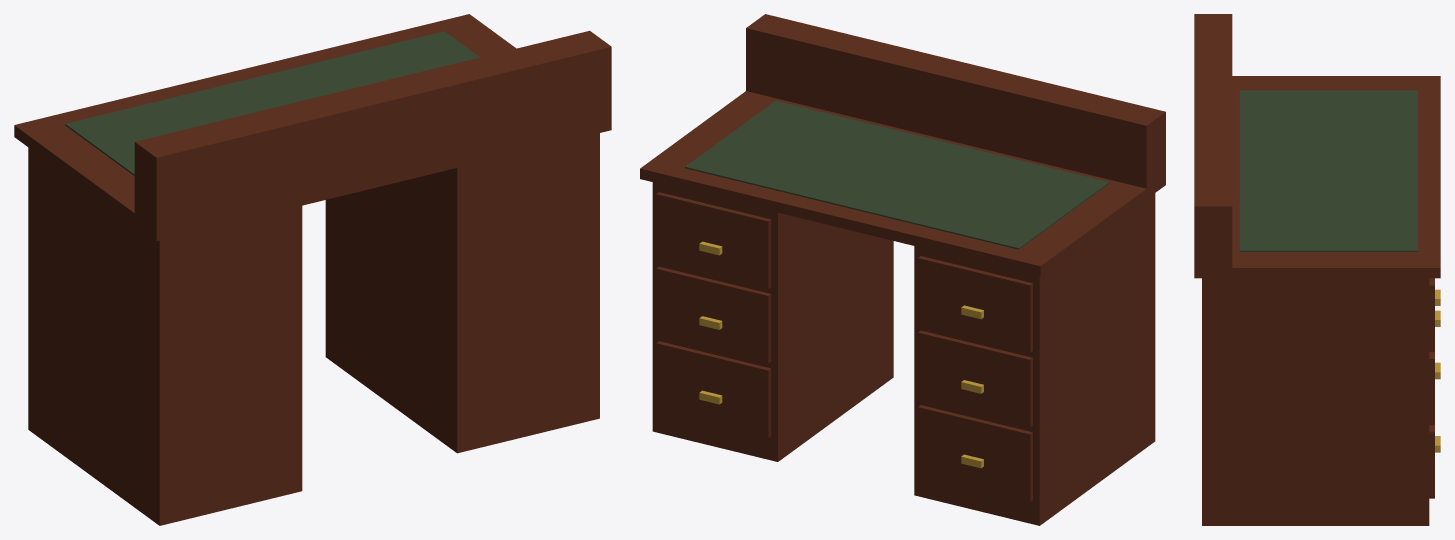
Rendered from parametric-desk-1st.glb.
3 renders of one model, left to right at view 1: azimuth 30°, elevation 25°; view 2: azimuth 150°, elevation 25°; view 3: azimuth 270°, elevation 25°, orthographic. The views are drawn at different scales.
Visible parts, largest first — view 1: parametric-desk-1st; view 2: parametric-desk-1st; view 3: parametric-desk-1st.
Boxes of the visible parts, box(x1,y1,x2,y2) form: parametric-desk-1st: box(14, 14, 611, 525); parametric-desk-1st: box(640, 14, 1165, 525); parametric-desk-1st: box(1194, 14, 1440, 525).
Bounding box in the file's own units: 1.2 × 0.94 × 0.65.
